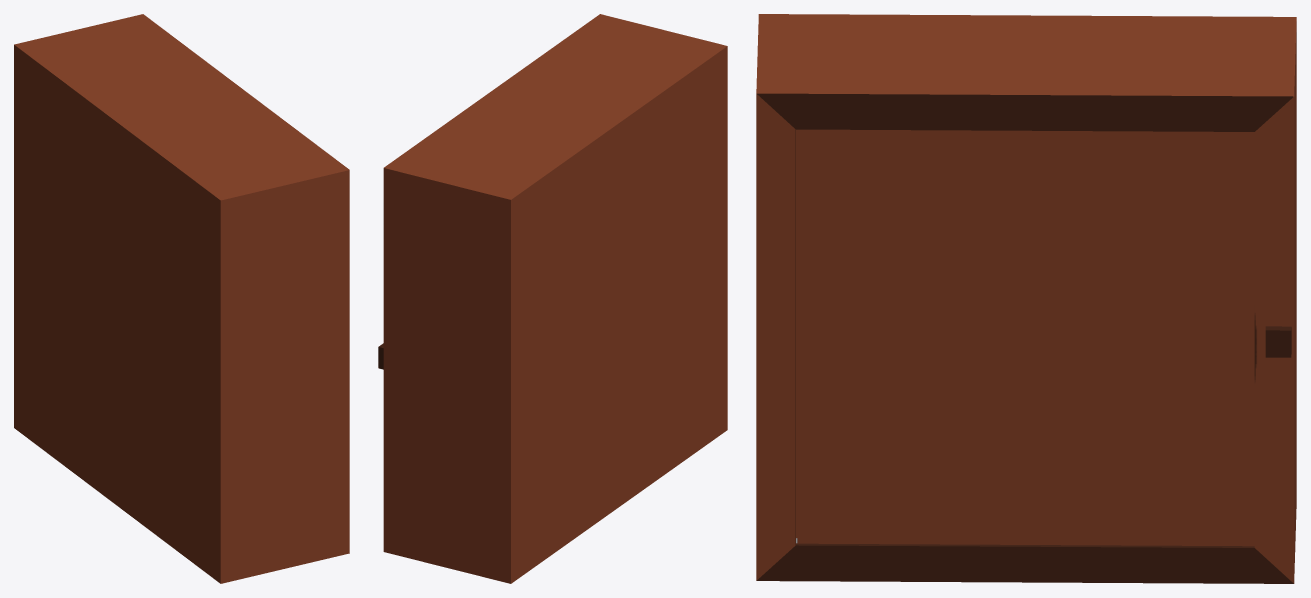
File: LeftCabinet.fbx
3 renders of one model, left to right at view 1: azimuth 30°, elevation 25°; view 2: azimuth 150°, elevation 25°; view 3: azimuth 270°, elevation 25°, orthographic. The views are drawn at different scales.
Parts seen in each view (by area): view 1: LeftCabinet; view 2: LeftCabinet; view 3: LeftCabinet.
Boxes of the visible parts, bbox=[...] form: LeftCabinet: bbox=[14, 14, 349, 583]; LeftCabinet: bbox=[378, 14, 727, 583]; LeftCabinet: bbox=[756, 14, 1296, 583].
Bounding box in the file's own units: 102 × 269 × 270.
1 material, 1 textured.
